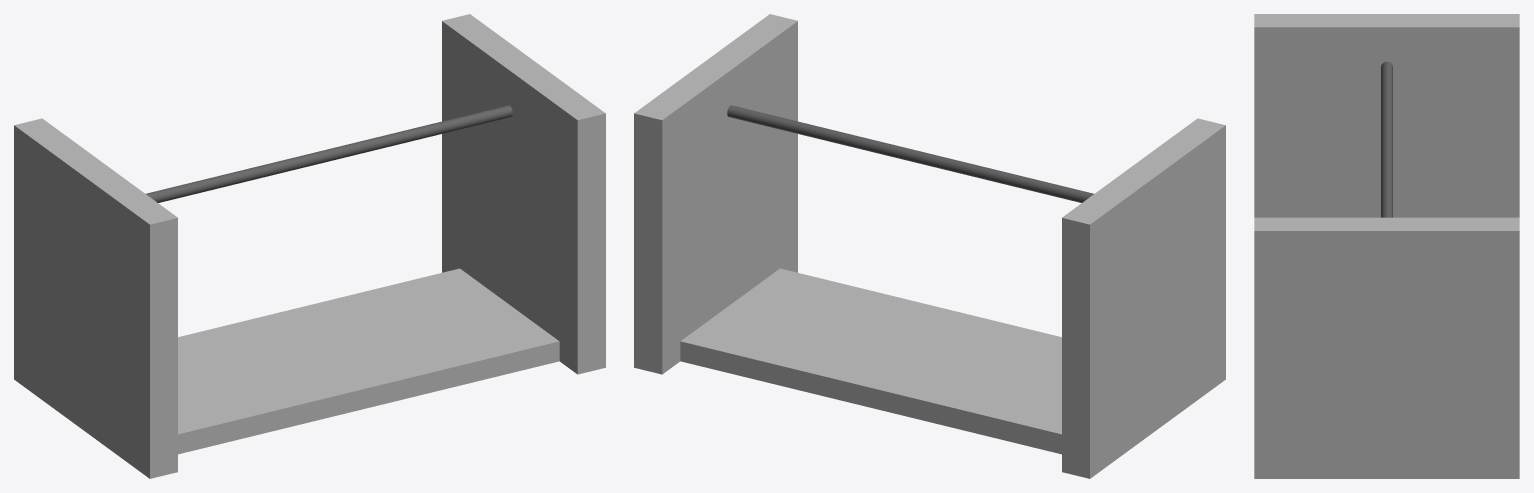
Rendered from FashionCloset.fbx.
The picture shows the model from 3 angles, left to right: view 1: azimuth 30°, elevation 25°; view 2: azimuth 150°, elevation 25°; view 3: azimuth 270°, elevation 25°; orthographic projection. The views are drawn at different scales.
Parts seen in each view (by area): view 1: Cube; view 2: Cube; view 3: Cube.
Boxes of the visible parts, <box> form: Cube: <box>14,14,605,478</box>; Cube: <box>634,14,1225,478</box>; Cube: <box>1254,14,1519,478</box>.
Size of the model in its own units: 229 by 122 by 118.
